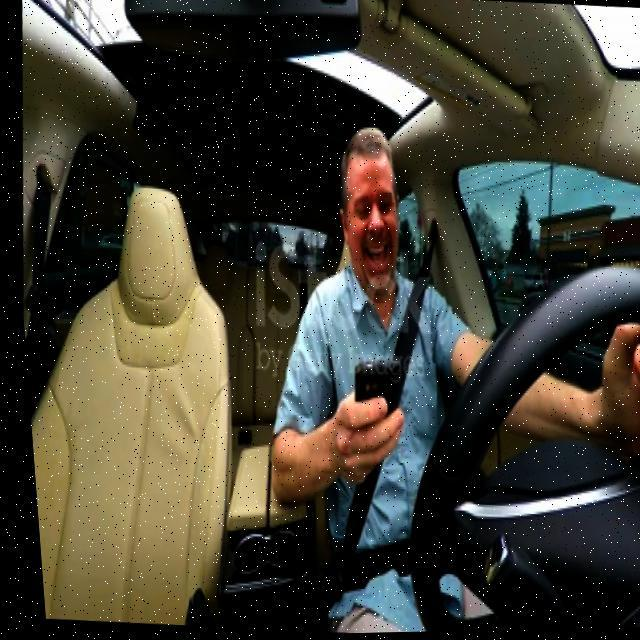PhoneCall: (341, 362, 402, 461)
